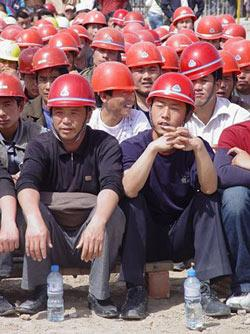helmet: (147, 74, 198, 112), (180, 44, 222, 80), (50, 76, 95, 109), (92, 63, 138, 94), (127, 41, 166, 69), (33, 49, 68, 73), (94, 29, 126, 53), (18, 49, 44, 75), (1, 75, 28, 100), (216, 50, 241, 75), (165, 34, 196, 53), (199, 18, 223, 40), (1, 39, 21, 64), (50, 34, 77, 52), (68, 25, 91, 44), (15, 32, 44, 47), (224, 25, 249, 40), (86, 12, 106, 27), (126, 12, 146, 26), (175, 8, 194, 21), (41, 25, 56, 41), (4, 27, 21, 40), (137, 30, 152, 44), (114, 9, 127, 25), (157, 29, 169, 41)
